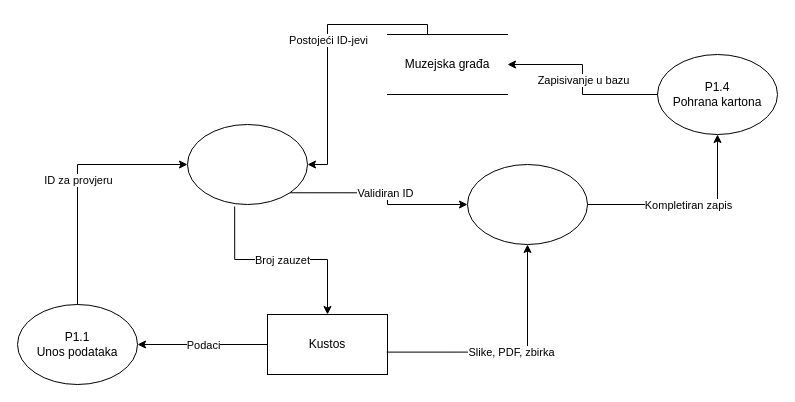
This 795x402 diagram has some shape labels left out. The box of each missing label's shape, as (x1, y1, x2, y2) in pixels:
P1.2 Validacija inventarnog broja: (186, 124, 308, 204)
P1.3 Digitalizacija i klasifikacija: (466, 164, 588, 244)
